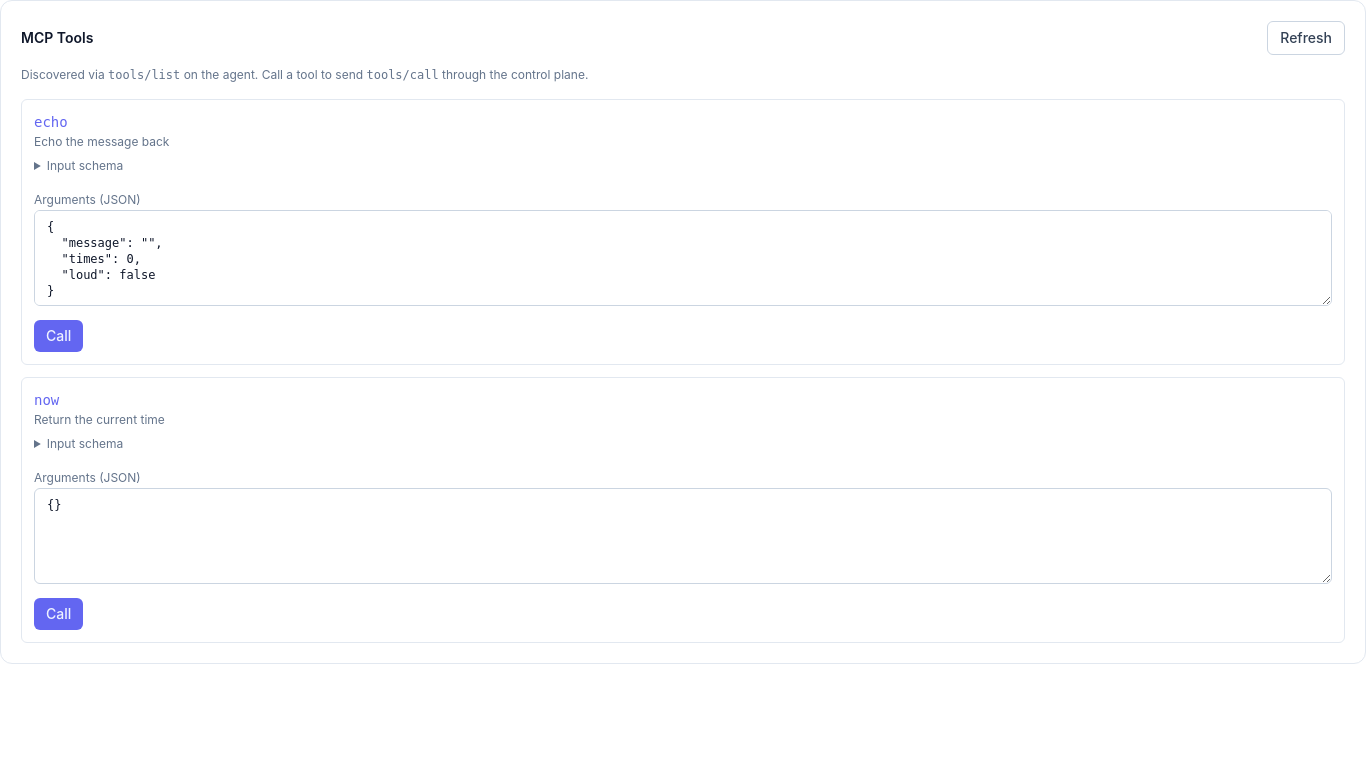
Test: MCPTools › badges an isError result as an error
Expected: the text "echo" is shown, [34,114,68,130]
Click the button "Call" below "Echo the message back": point(59, 336) [34,320,83,352]
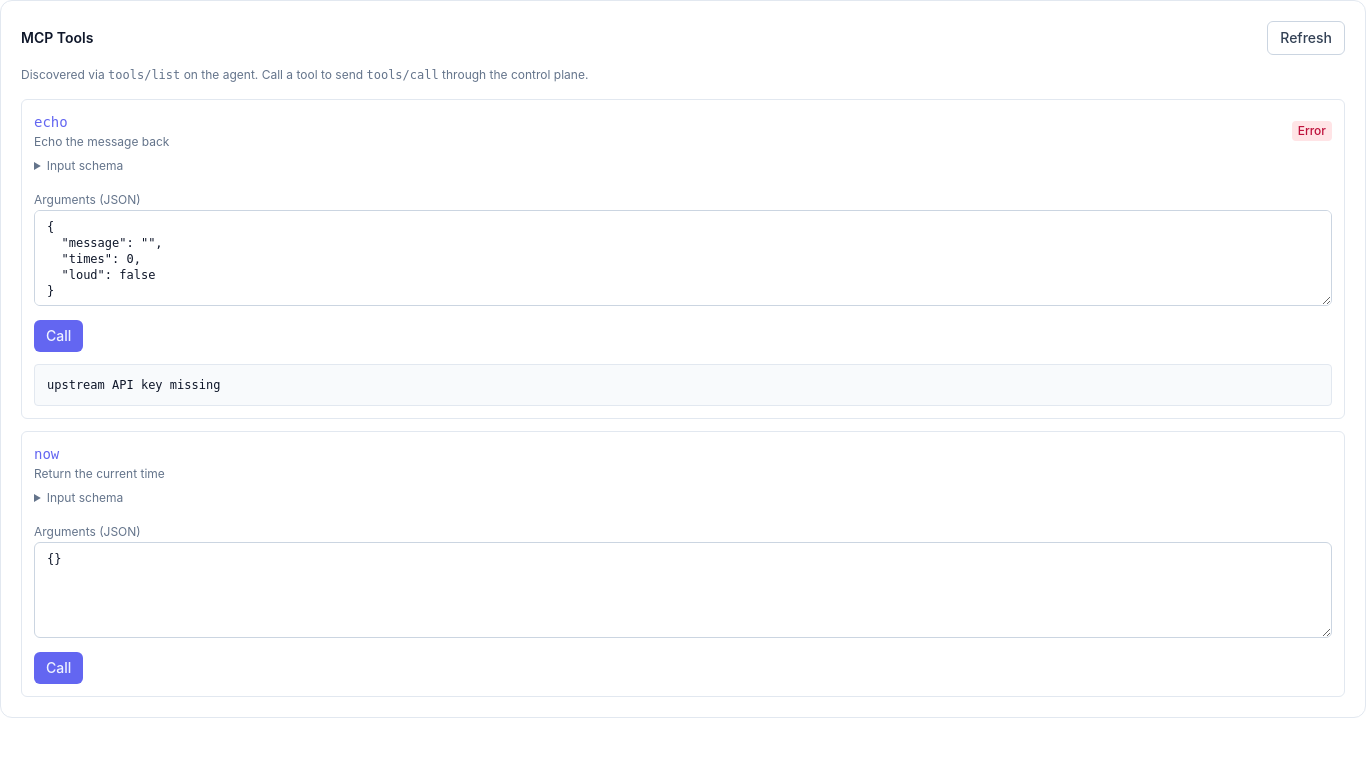
Expected: the text "Error" is shown, [1292,121,1332,141]
Expected: the text "upstream API key missing" is shown, [34,364,1332,406]
